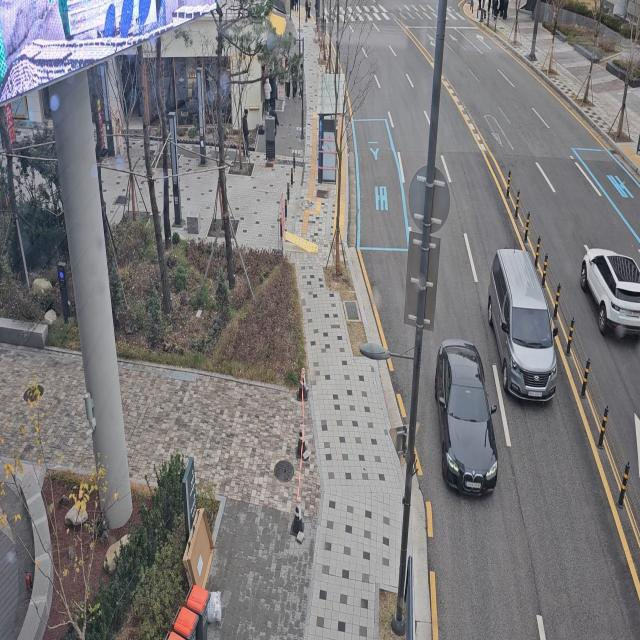Car: (428, 308, 505, 508), (483, 230, 565, 411), (573, 216, 640, 348)
